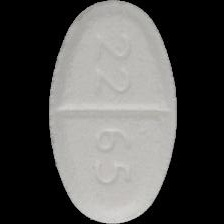0603-2406: (0, 0, 224, 224)
